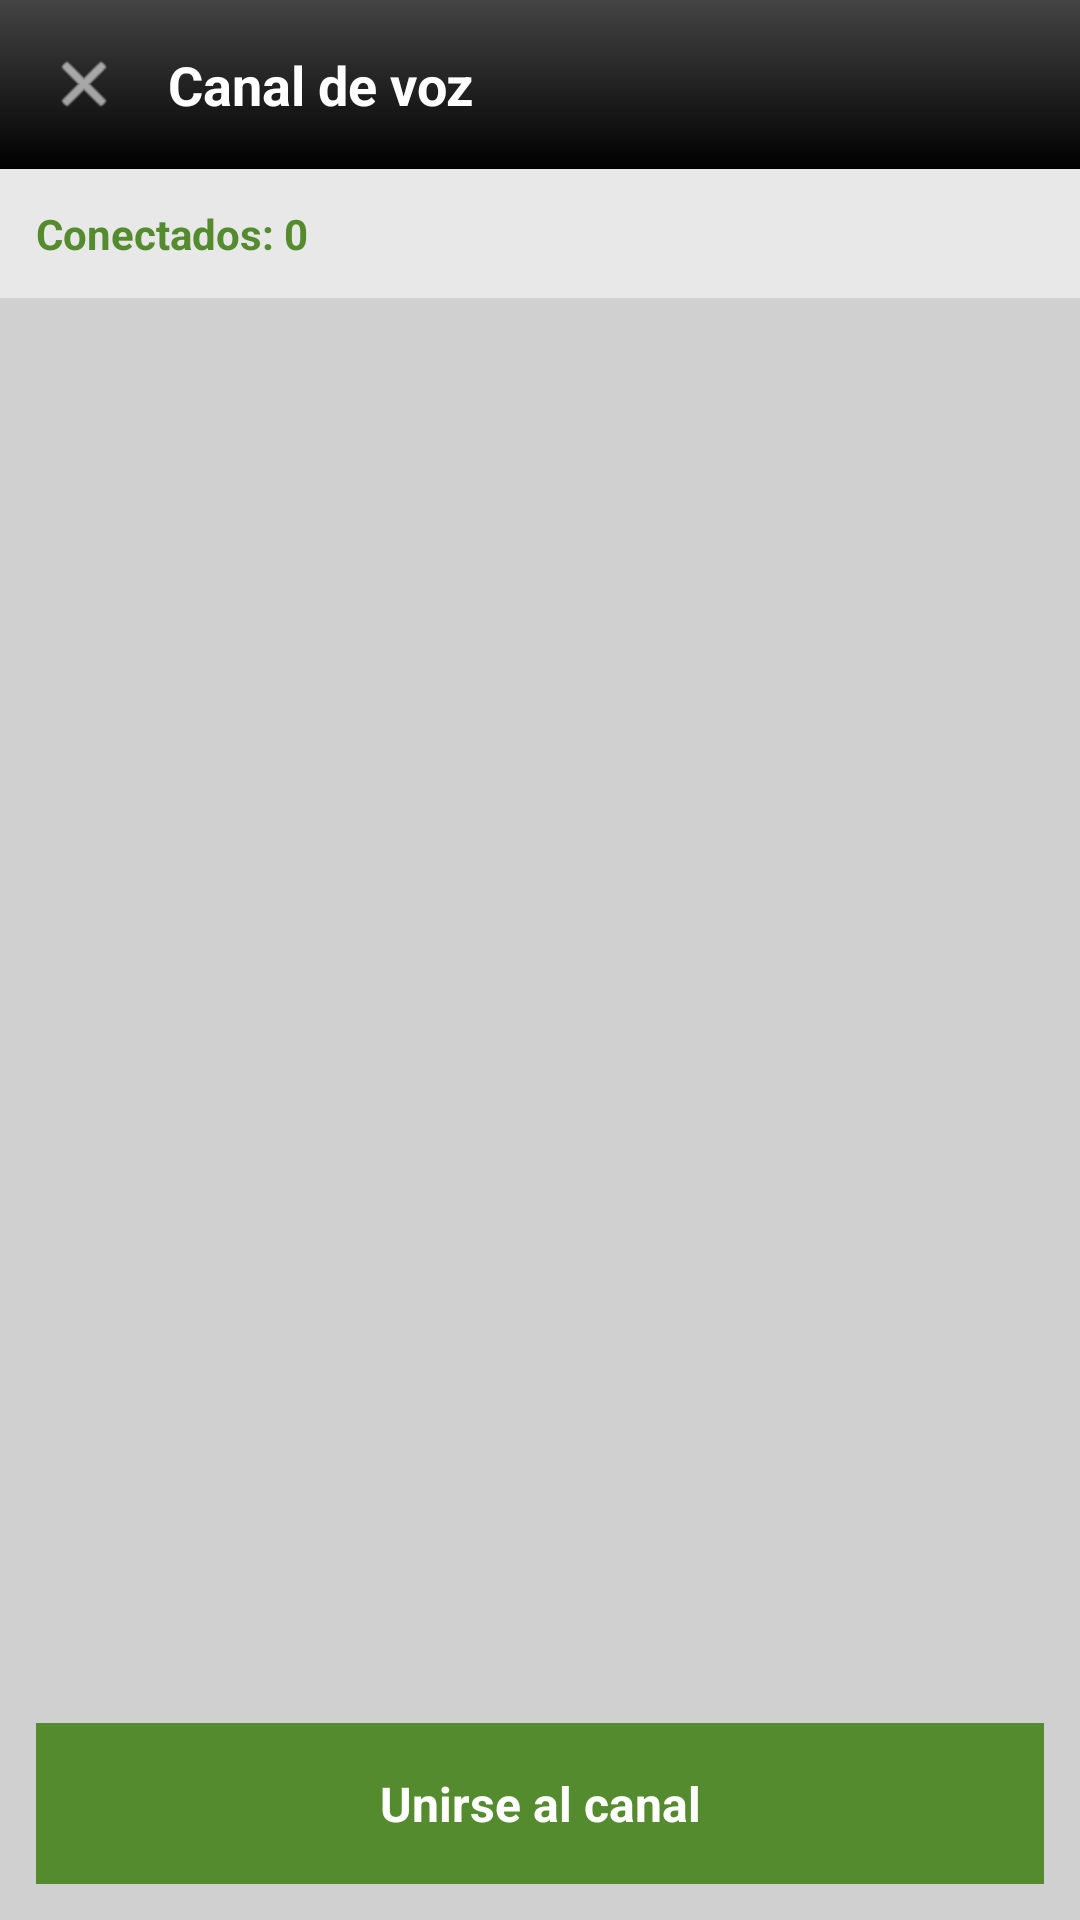

Where icons sit on this 1080x1920 app screen, as (x1, y1, x2, y2):
close clear cancel: (48, 48, 120, 107)
